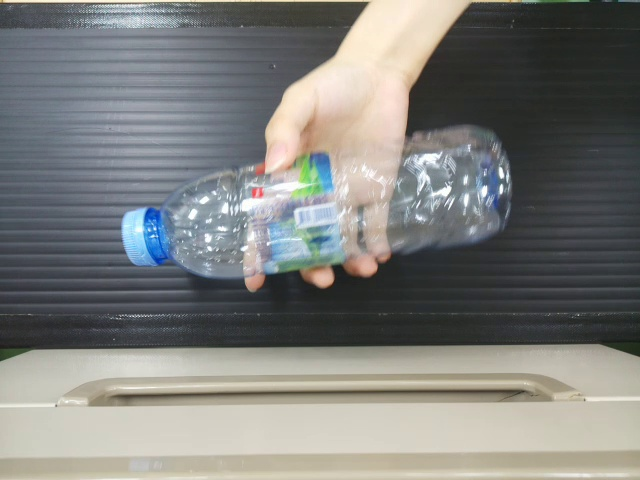bottle: (119, 133, 518, 281)
